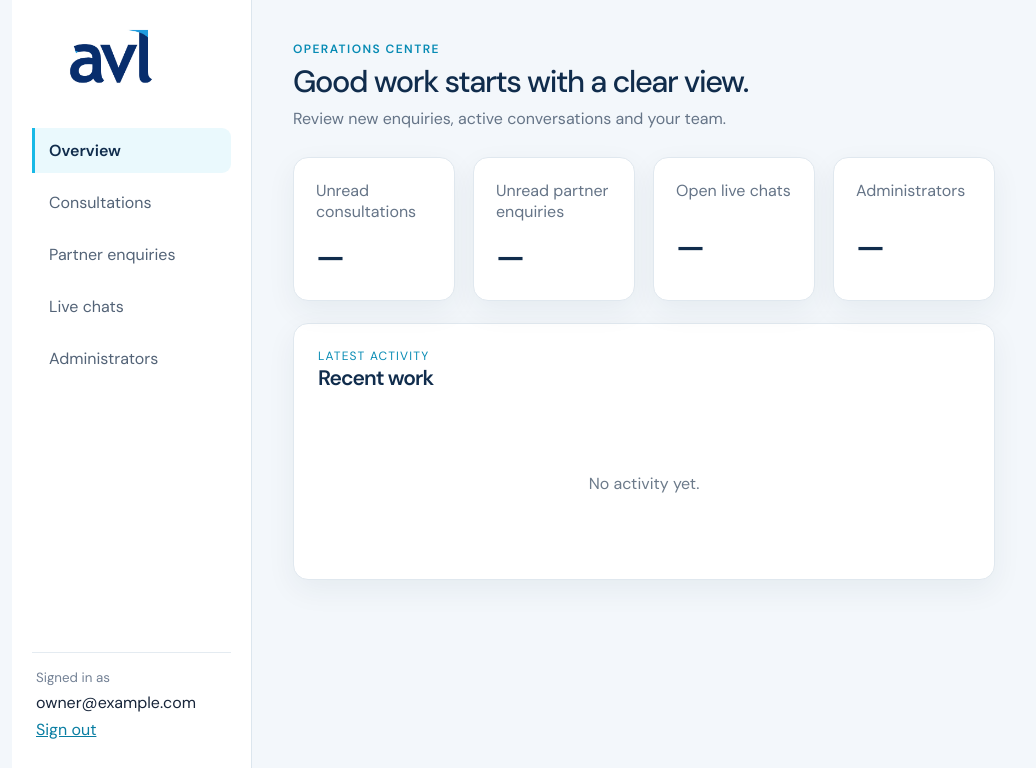
AVL routed website › shows feedback when logout fails
Click the button "Sign out" at [66, 730], box [36,719,96,740]
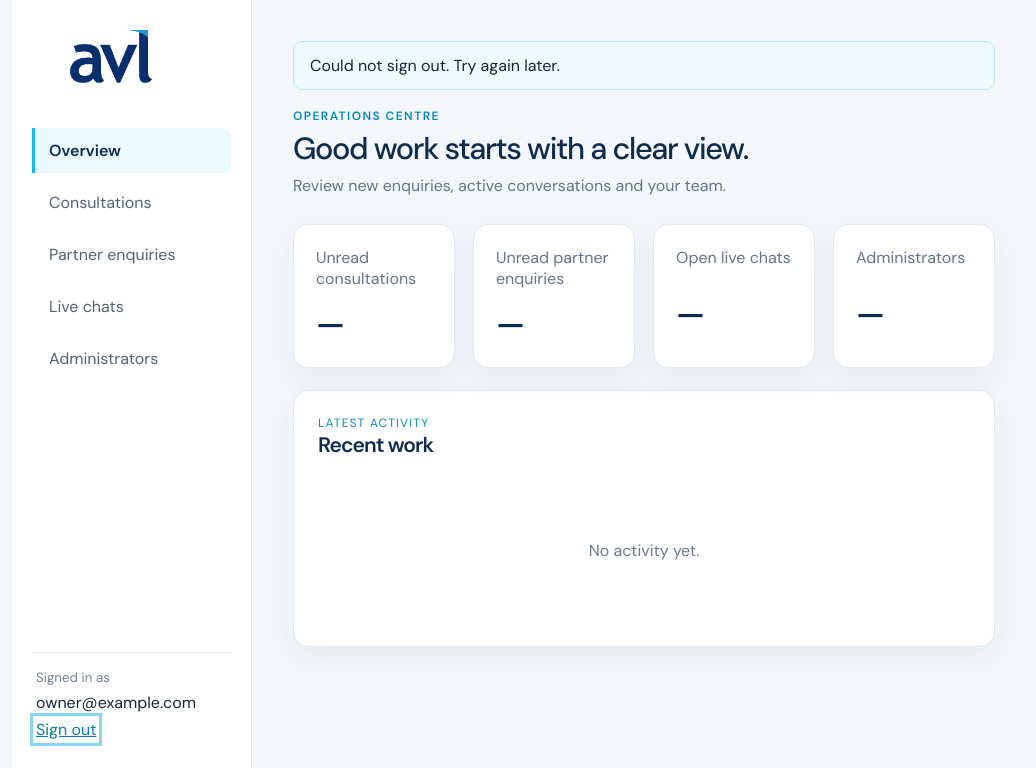
Now the message reads "Could not sign out. Try again later.", box [310,55,560,76]
